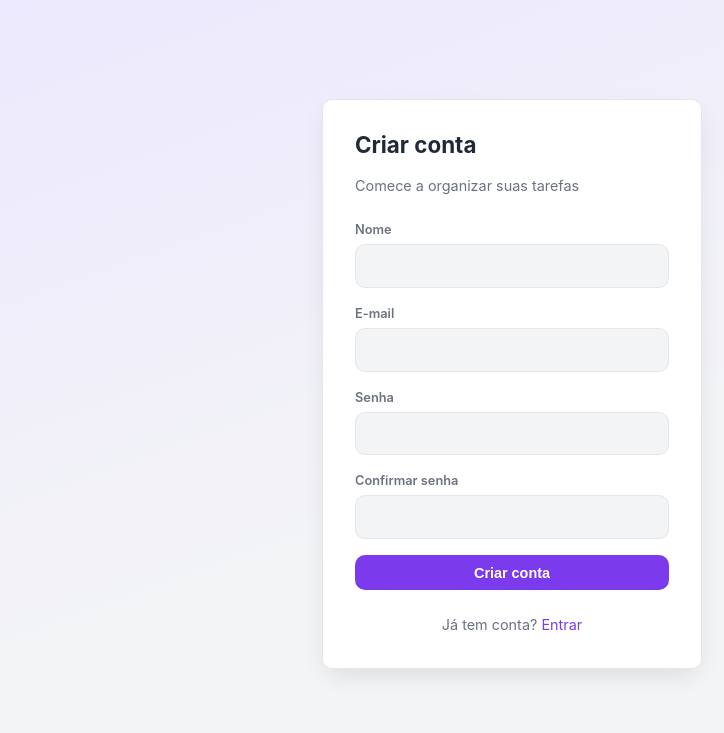
Test: RegisterPage › displays error message when registration fails
Type "Ana Silva" into the field with test id "register-name" at [512, 266], box top-left (355, 244), bottom-right (669, 288)
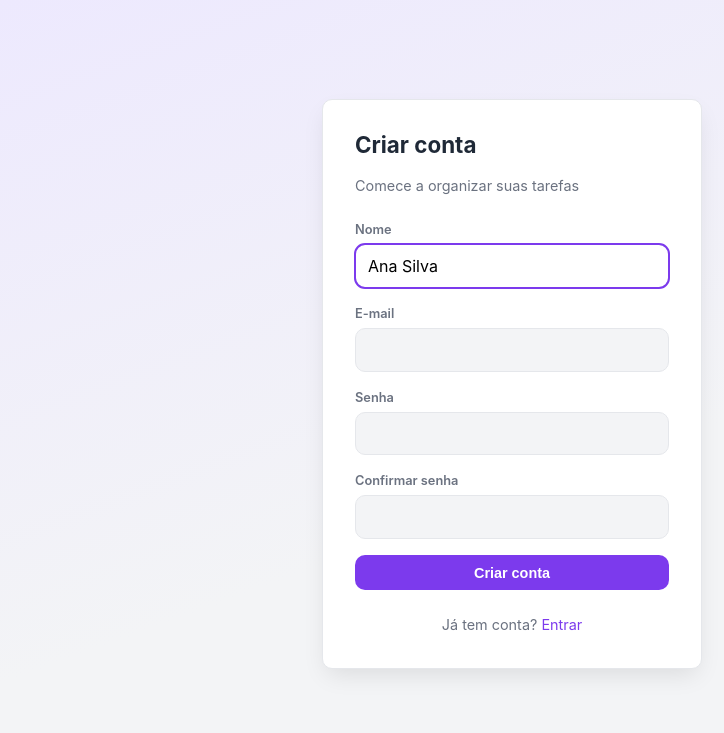
Type "ana@domain.com" into the field with test id "register-email" at [512, 350], box top-left (355, 328), bottom-right (669, 372)
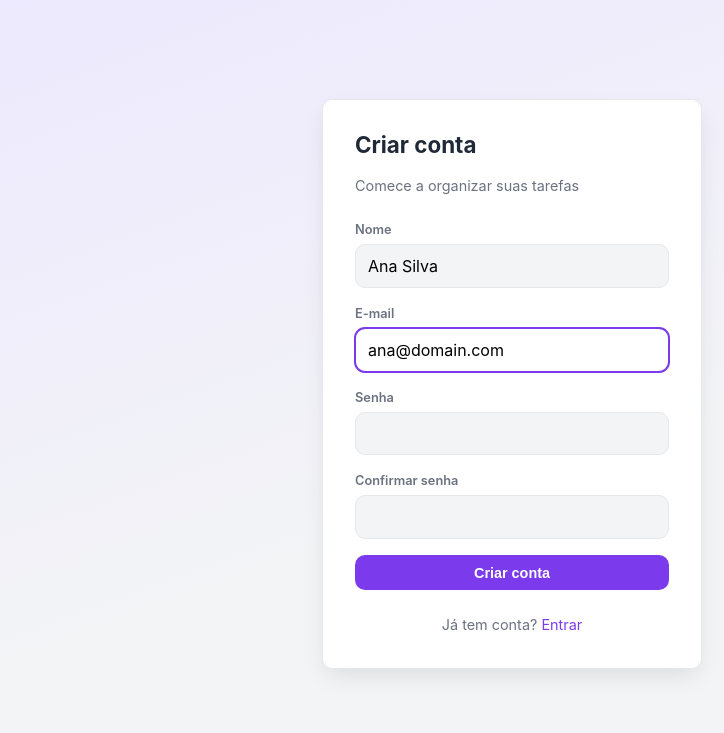
Type "password1" into the password field with test id "register-password" at [512, 433], box top-left (355, 412), bottom-right (669, 455)
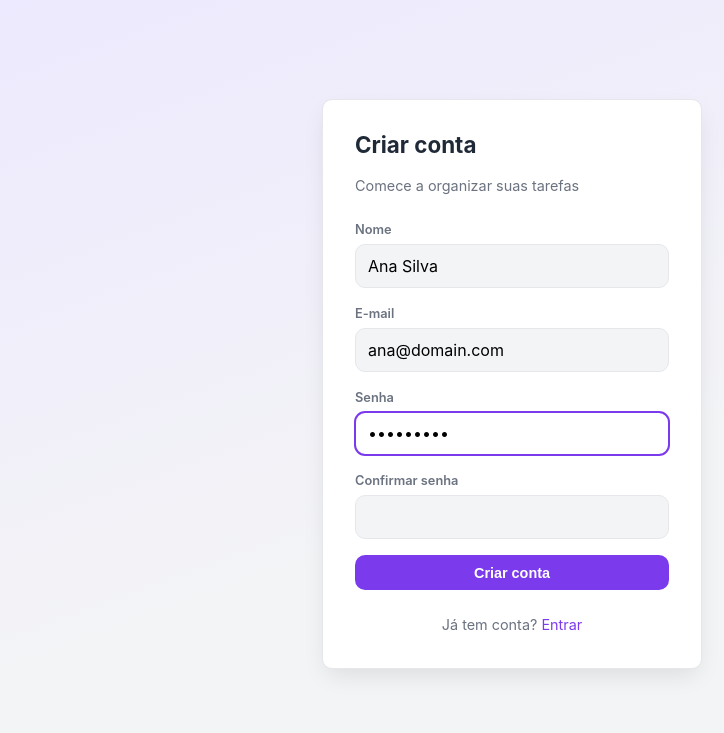
Type "password1" into the password field with test id "register-confirm-password" at [512, 517], box top-left (355, 495), bottom-right (669, 539)
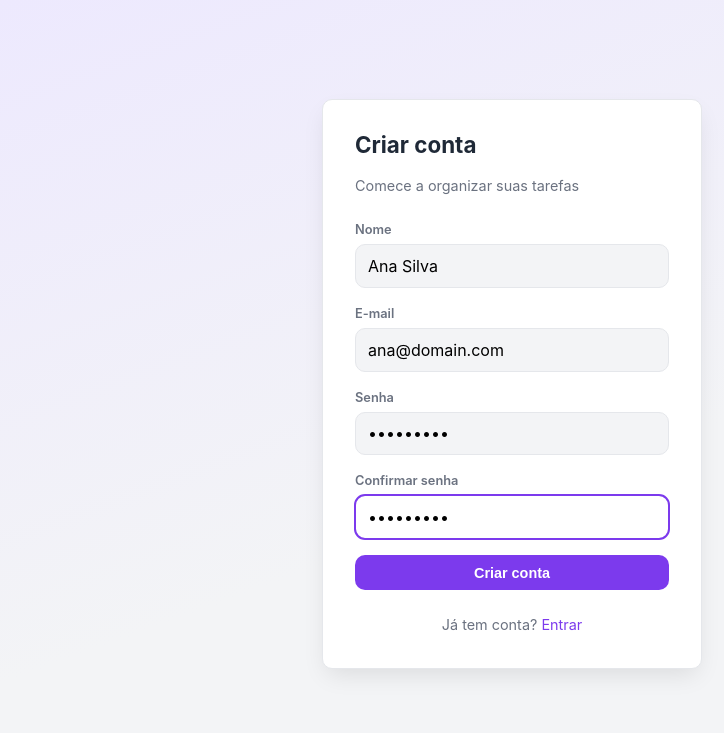
Click the button with test id "register-submit" at [512, 573], box top-left (355, 555), bottom-right (669, 590)
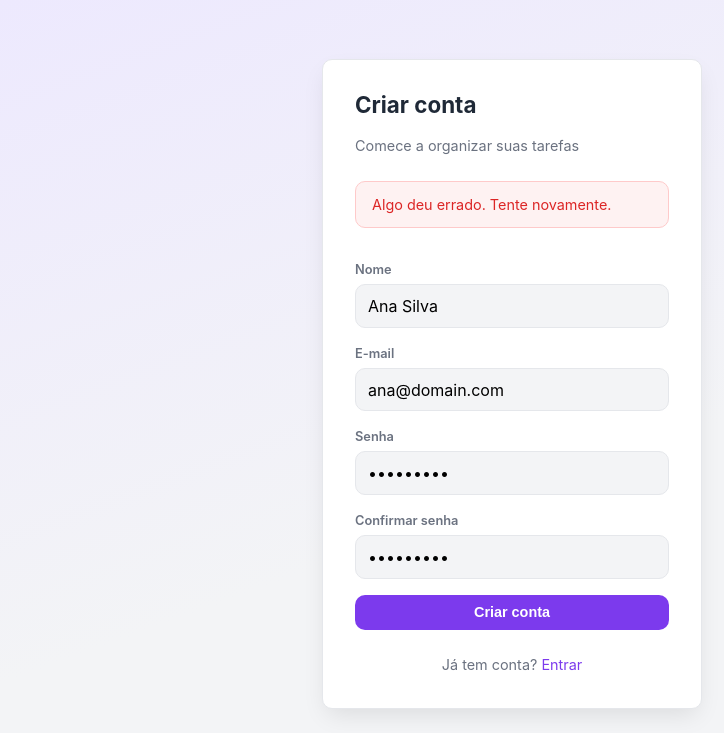
Expected: the text "Algo deu errado. Tente novamente." is shown, top-left (355, 181), bottom-right (669, 228)
